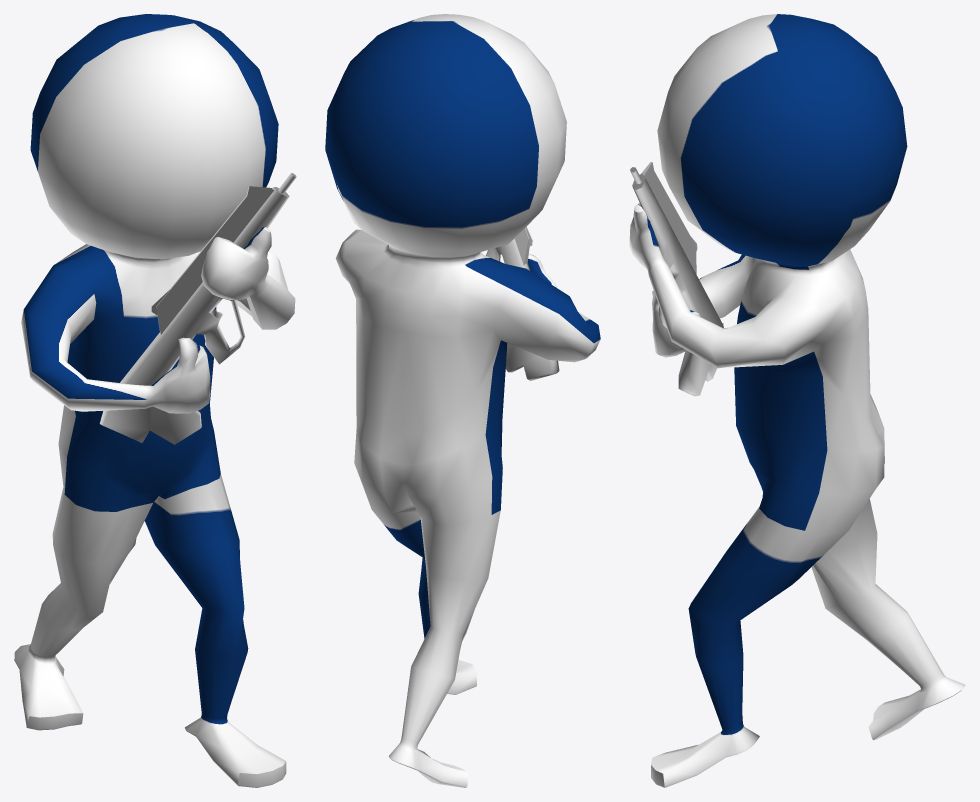
Rendered from finno_decentralized_soldier.obj.
The picture shows the model from 3 angles, left to right: view 1: azimuth 30°, elevation 25°; view 2: azimuth 150°, elevation 25°; view 3: azimuth 270°, elevation 25°; orthographic projection. The views are drawn at different scales.
Parts seen in each view (by area): view 1: Virtual_Man, Object01; view 2: Virtual_Man, Object01; view 3: Virtual_Man, Object01.
Part boxes in pixels (box(x1,y1,x2,y2)): Virtual_Man: box(14, 14, 295, 787); Object01: box(99, 173, 296, 444); Virtual_Man: box(325, 14, 600, 787); Object01: box(486, 226, 559, 380); Virtual_Man: box(629, 14, 965, 787); Object01: box(630, 162, 723, 396).
Size of the model in its own units: 0.7557 by 2.08 by 0.8682.
